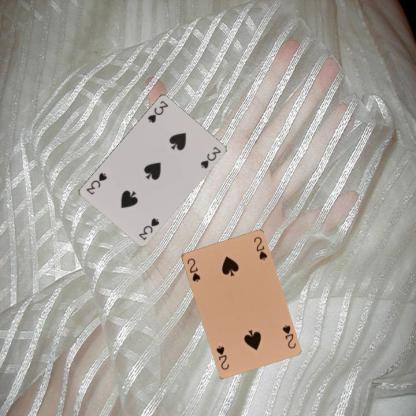2s: (184, 255, 201, 283), (280, 322, 297, 349)
3s: (145, 98, 169, 124), (136, 215, 160, 241)
